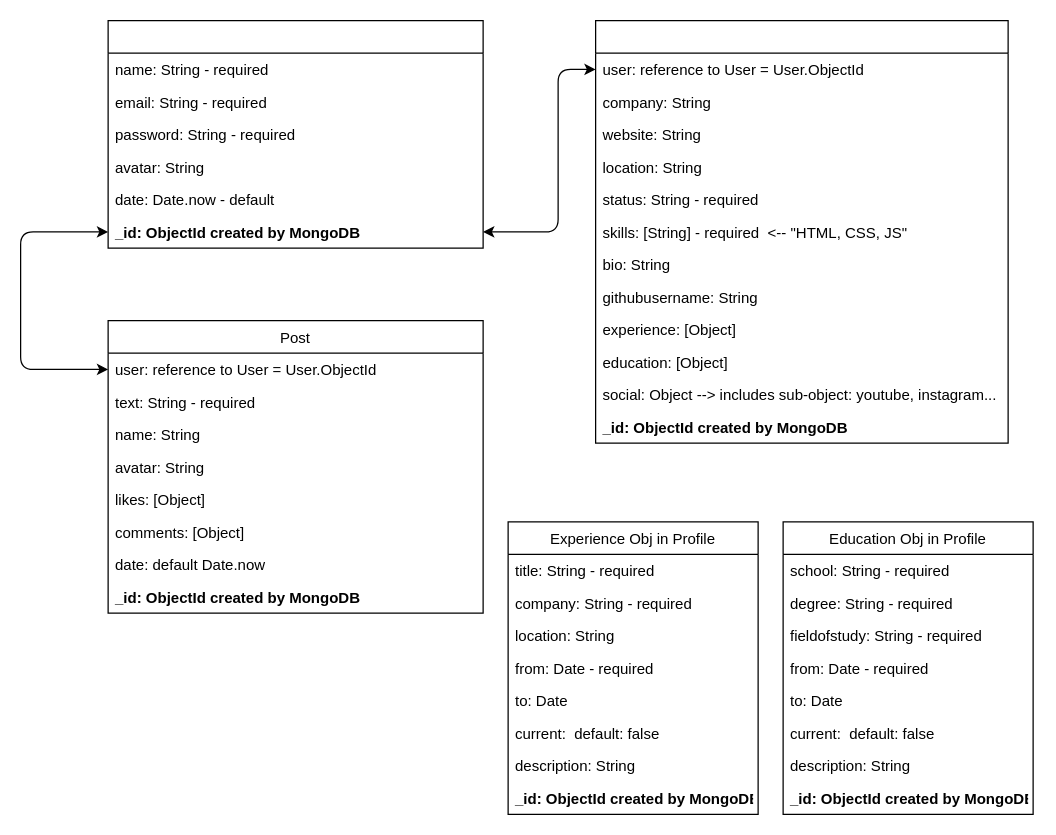
Image size: 1056x835. Some labels were removed from this diagram. The shapes that lost their labels are listed below. From the top down, each one's box as (x1, y1, x2, y2) in pixels, then its label:
(107, 19, 483, 248): User
(594, 19, 1008, 443): Profile
